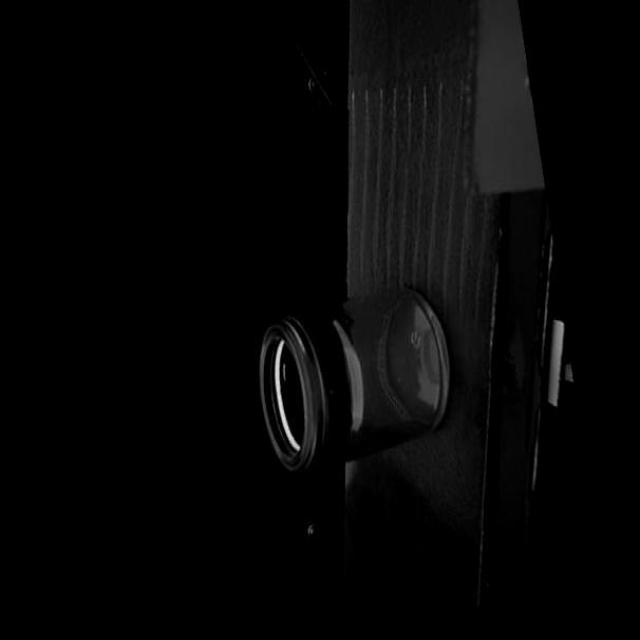glass: (245, 272, 460, 484)
